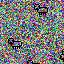sheep: (34, 4, 48, 15), (8, 38, 22, 49), (27, 60, 40, 64), (60, 54, 64, 62)
